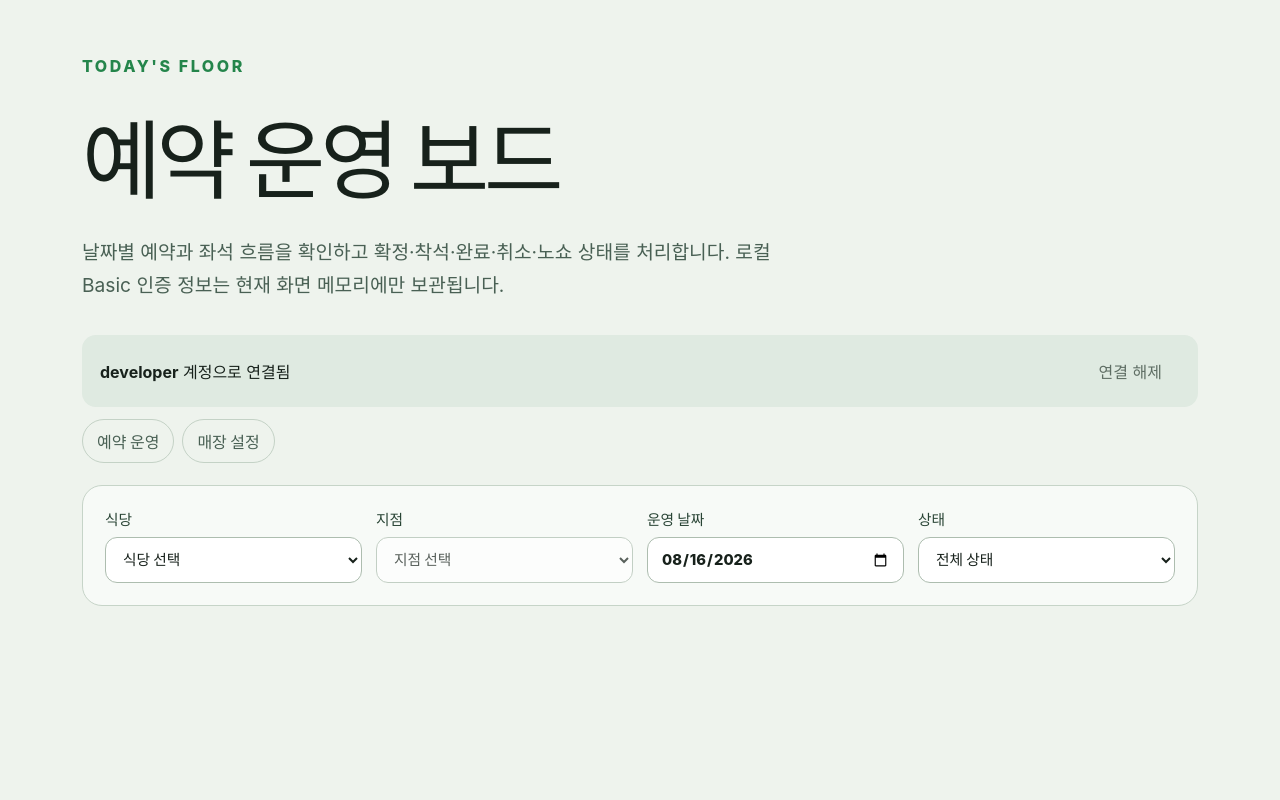
Test: AdminReservationPage › uses the displayed reservation version when applying a state transition
Select "TableFlow" in the dropdown labelled "식당": (234, 560) [105,538,362,584]
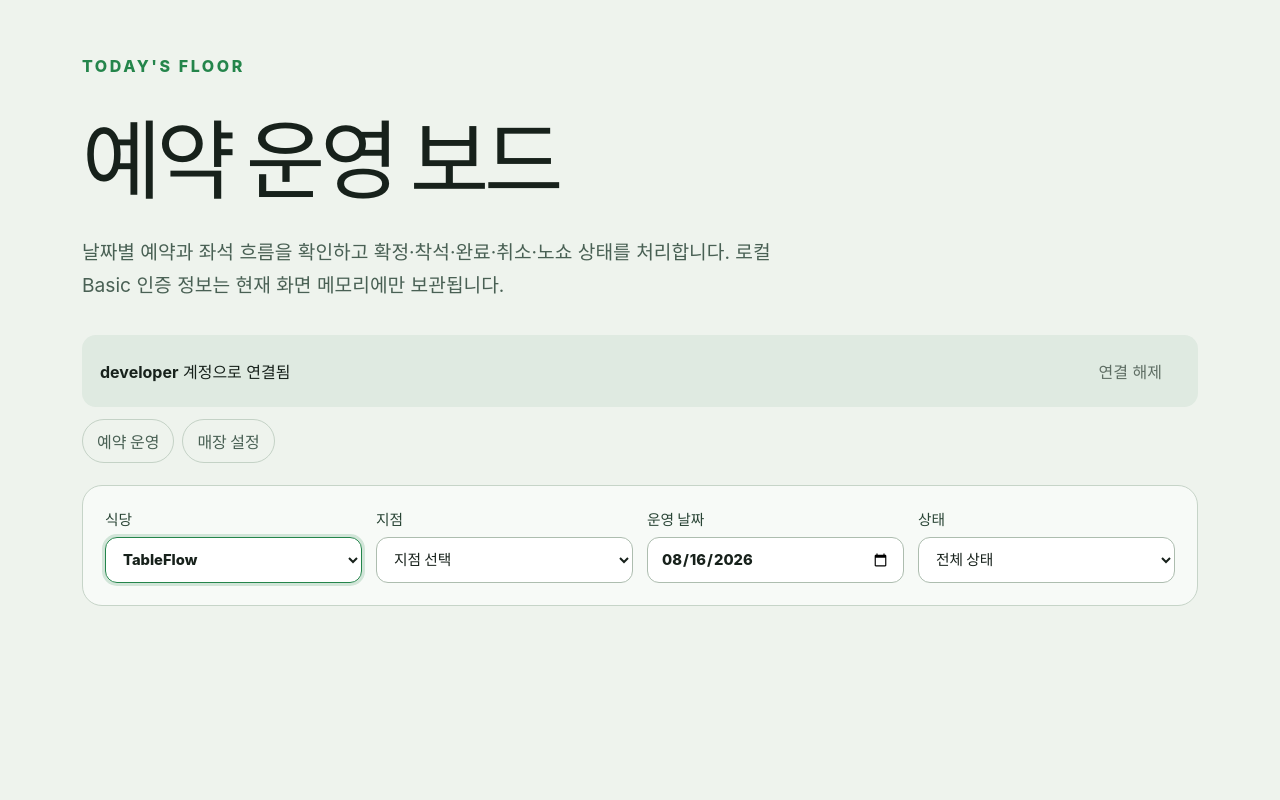
Select "강남점" in the dropdown labelled "지점": (504, 560) [376,538,633,584]
(page scrolled)
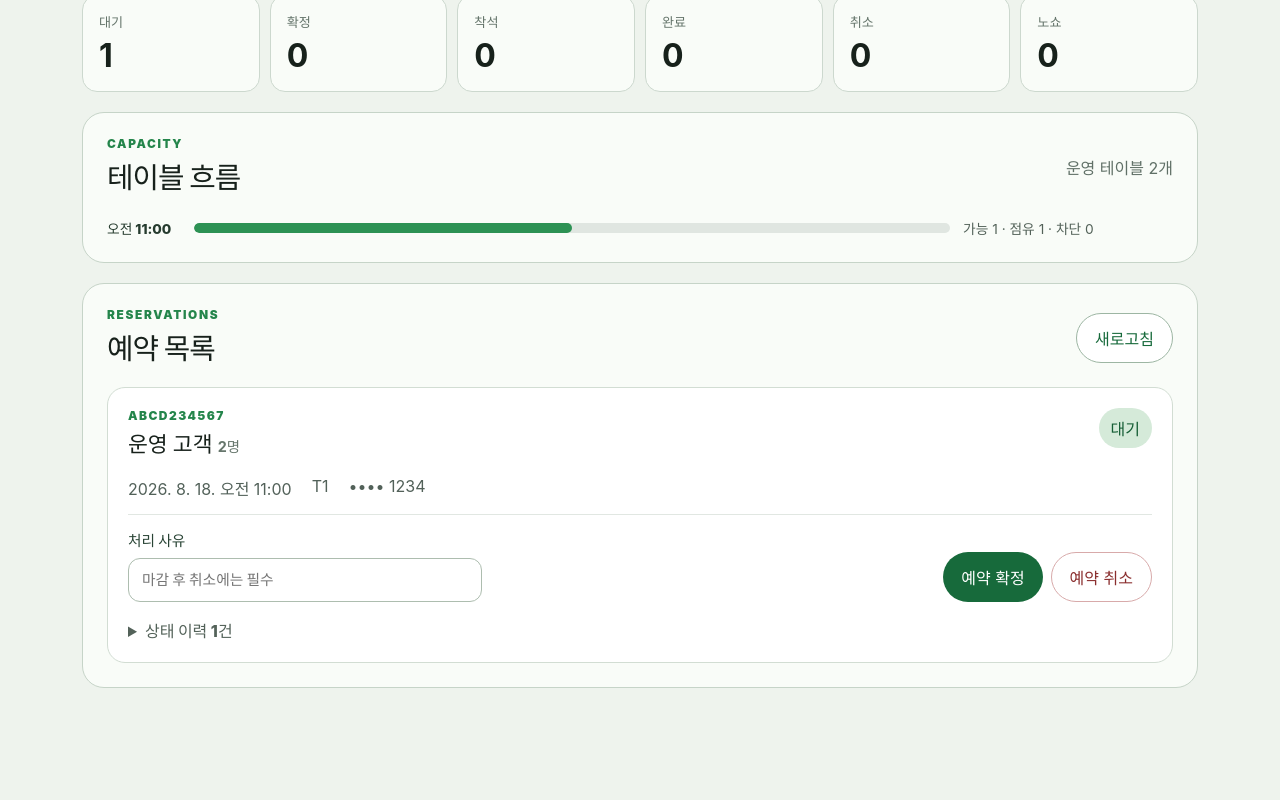
Expected: the heading "운영 고객 2명" is shown, [128,428,240,458]
Click the button "예약 확정": (993, 578) [943,552,1043,602]
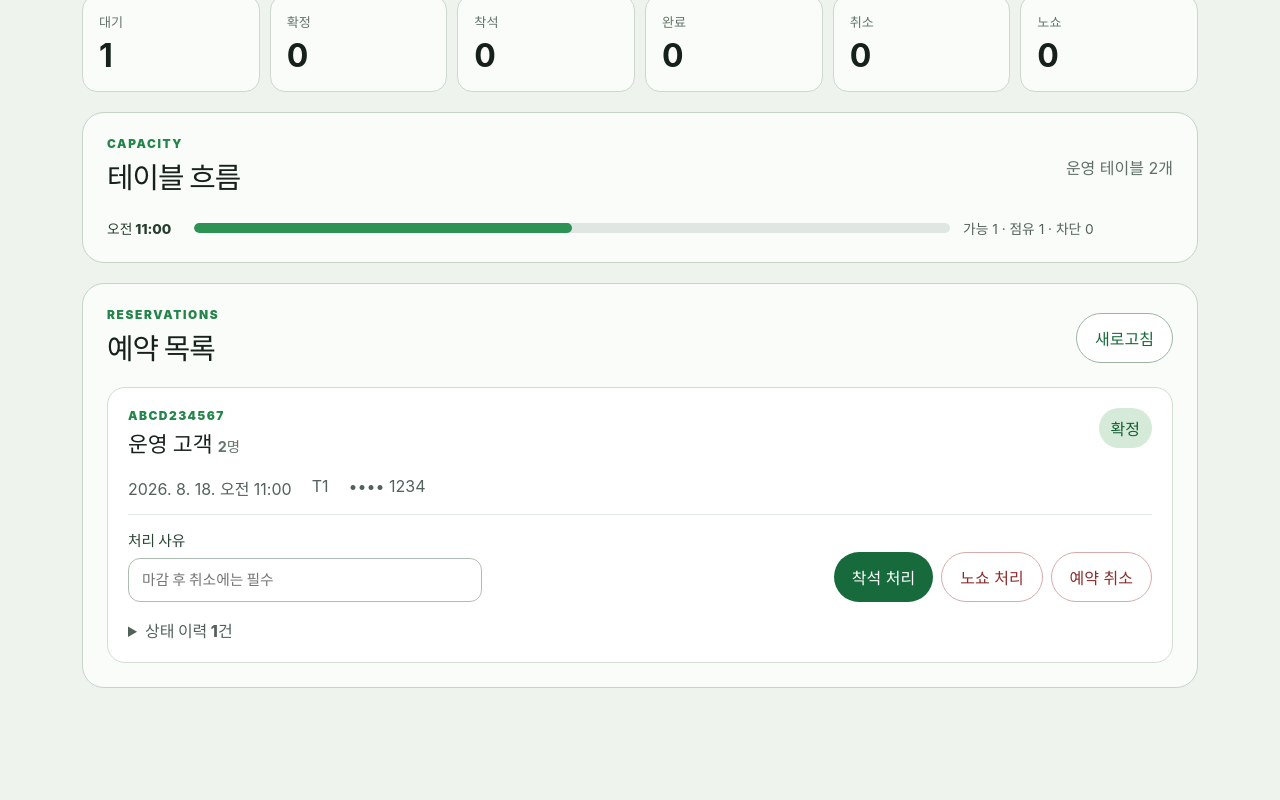
Expected: the text "확정" in the row of "ABCD234567" is shown, [1110,420,1140,440]
